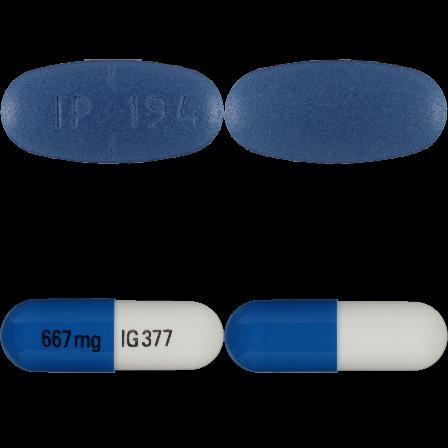17856-0194: (0, 0, 224, 224)
